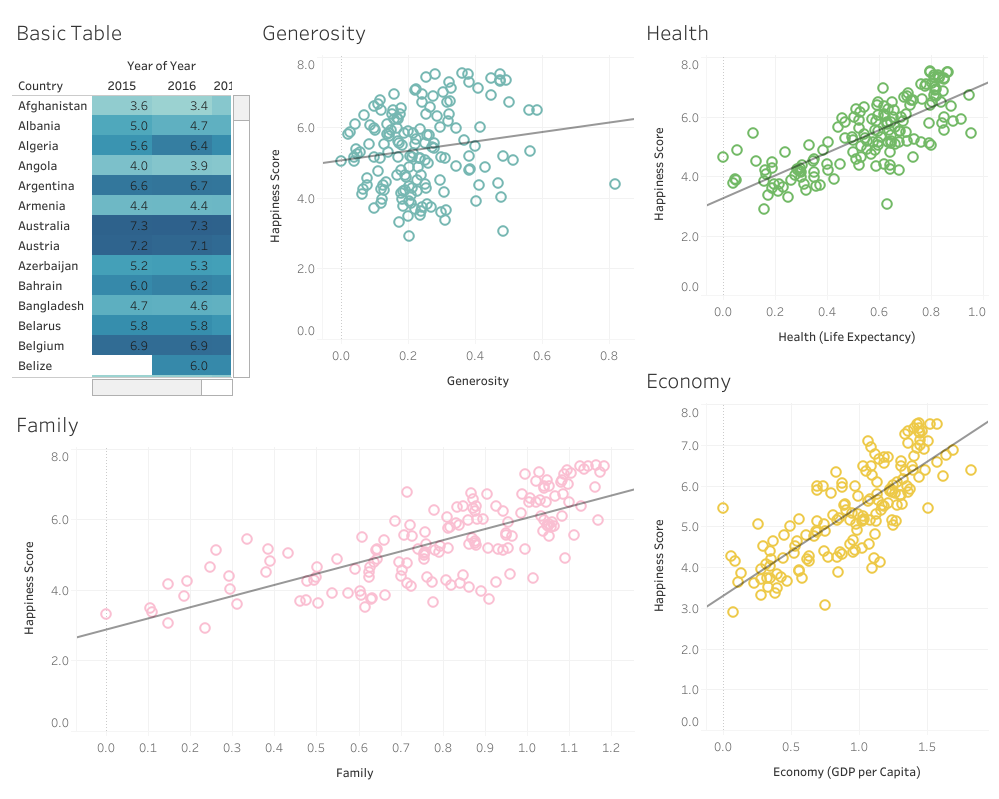

What the dashboard file says about the page in this screenshot:
{"tool":"tableau","page":{"name":"Dashboard 1","canvas":[1000,800],"ordinal":0},"visuals":[{"type":"worksheet","title":"Basic Table","mark":"Square","rows":["Country"],"cols":["Year"],"box":[8,8,246,392]},{"type":"worksheet","title":"Generosity","mark":"Automatic","rows":["Happiness Score"],"cols":["Generosity"],"box":[254,8,384,392]},{"type":"worksheet","title":"Health","mark":"Automatic","rows":["Happiness Score"],"cols":["Health (Life Expectancy)"],"box":[638,8,354,348]},{"type":"worksheet","title":"Economy","mark":"Automatic","rows":["Happiness Score"],"cols":["Economy (GDP per Capita)"],"box":[638,356,354,436]},{"type":"worksheet","title":"Family","mark":"Automatic","rows":["Happiness Score"],"cols":["Family"],"box":[8,400,630,392]}]}

Visuals, with their boxes in screenshot pixels (x1, y1, x2, y2), scaled from the page's 1000x800 canvas onto the 999x799 screenshot:
"Basic Table" worksheet (Square marks): {"x1": 8, "y1": 8, "x2": 254, "y2": 400}
"Generosity" worksheet: {"x1": 254, "y1": 8, "x2": 637, "y2": 400}
"Health" worksheet: {"x1": 637, "y1": 8, "x2": 991, "y2": 356}
"Economy" worksheet: {"x1": 637, "y1": 356, "x2": 991, "y2": 791}
"Family" worksheet: {"x1": 8, "y1": 400, "x2": 637, "y2": 791}
